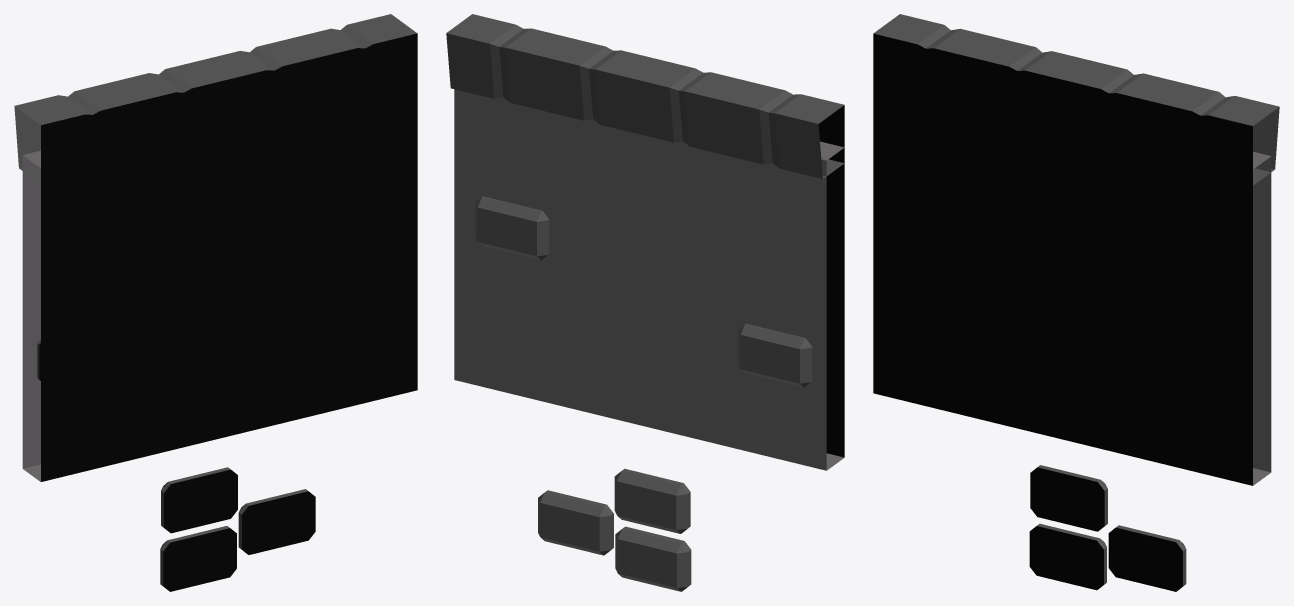
File: Wall_4.fbx
The picture shows the model from 3 angles, left to right: view 1: azimuth 30°, elevation 25°; view 2: azimuth 150°, elevation 25°; view 3: azimuth 330°, elevation 25°; orthographic projection.
Visible parts, largest first — view 1: Wall_4; view 2: Wall_4; view 3: Wall_4.
Boxes of the visible parts, bbox=[...] form: Wall_4: bbox=[14, 14, 417, 591]; Wall_4: bbox=[446, 14, 844, 591]; Wall_4: bbox=[873, 14, 1279, 591].
Bounding box in the file's own units: 200 × 261 × 24.35.
